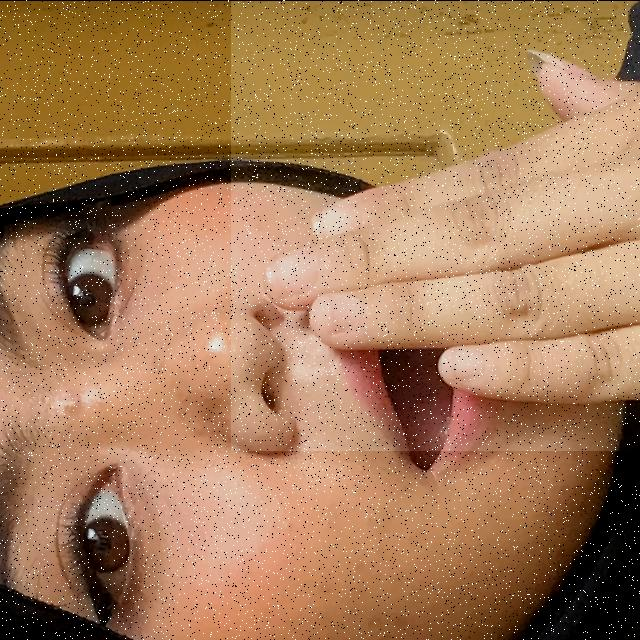ngantuk: (231, 0, 640, 450)
